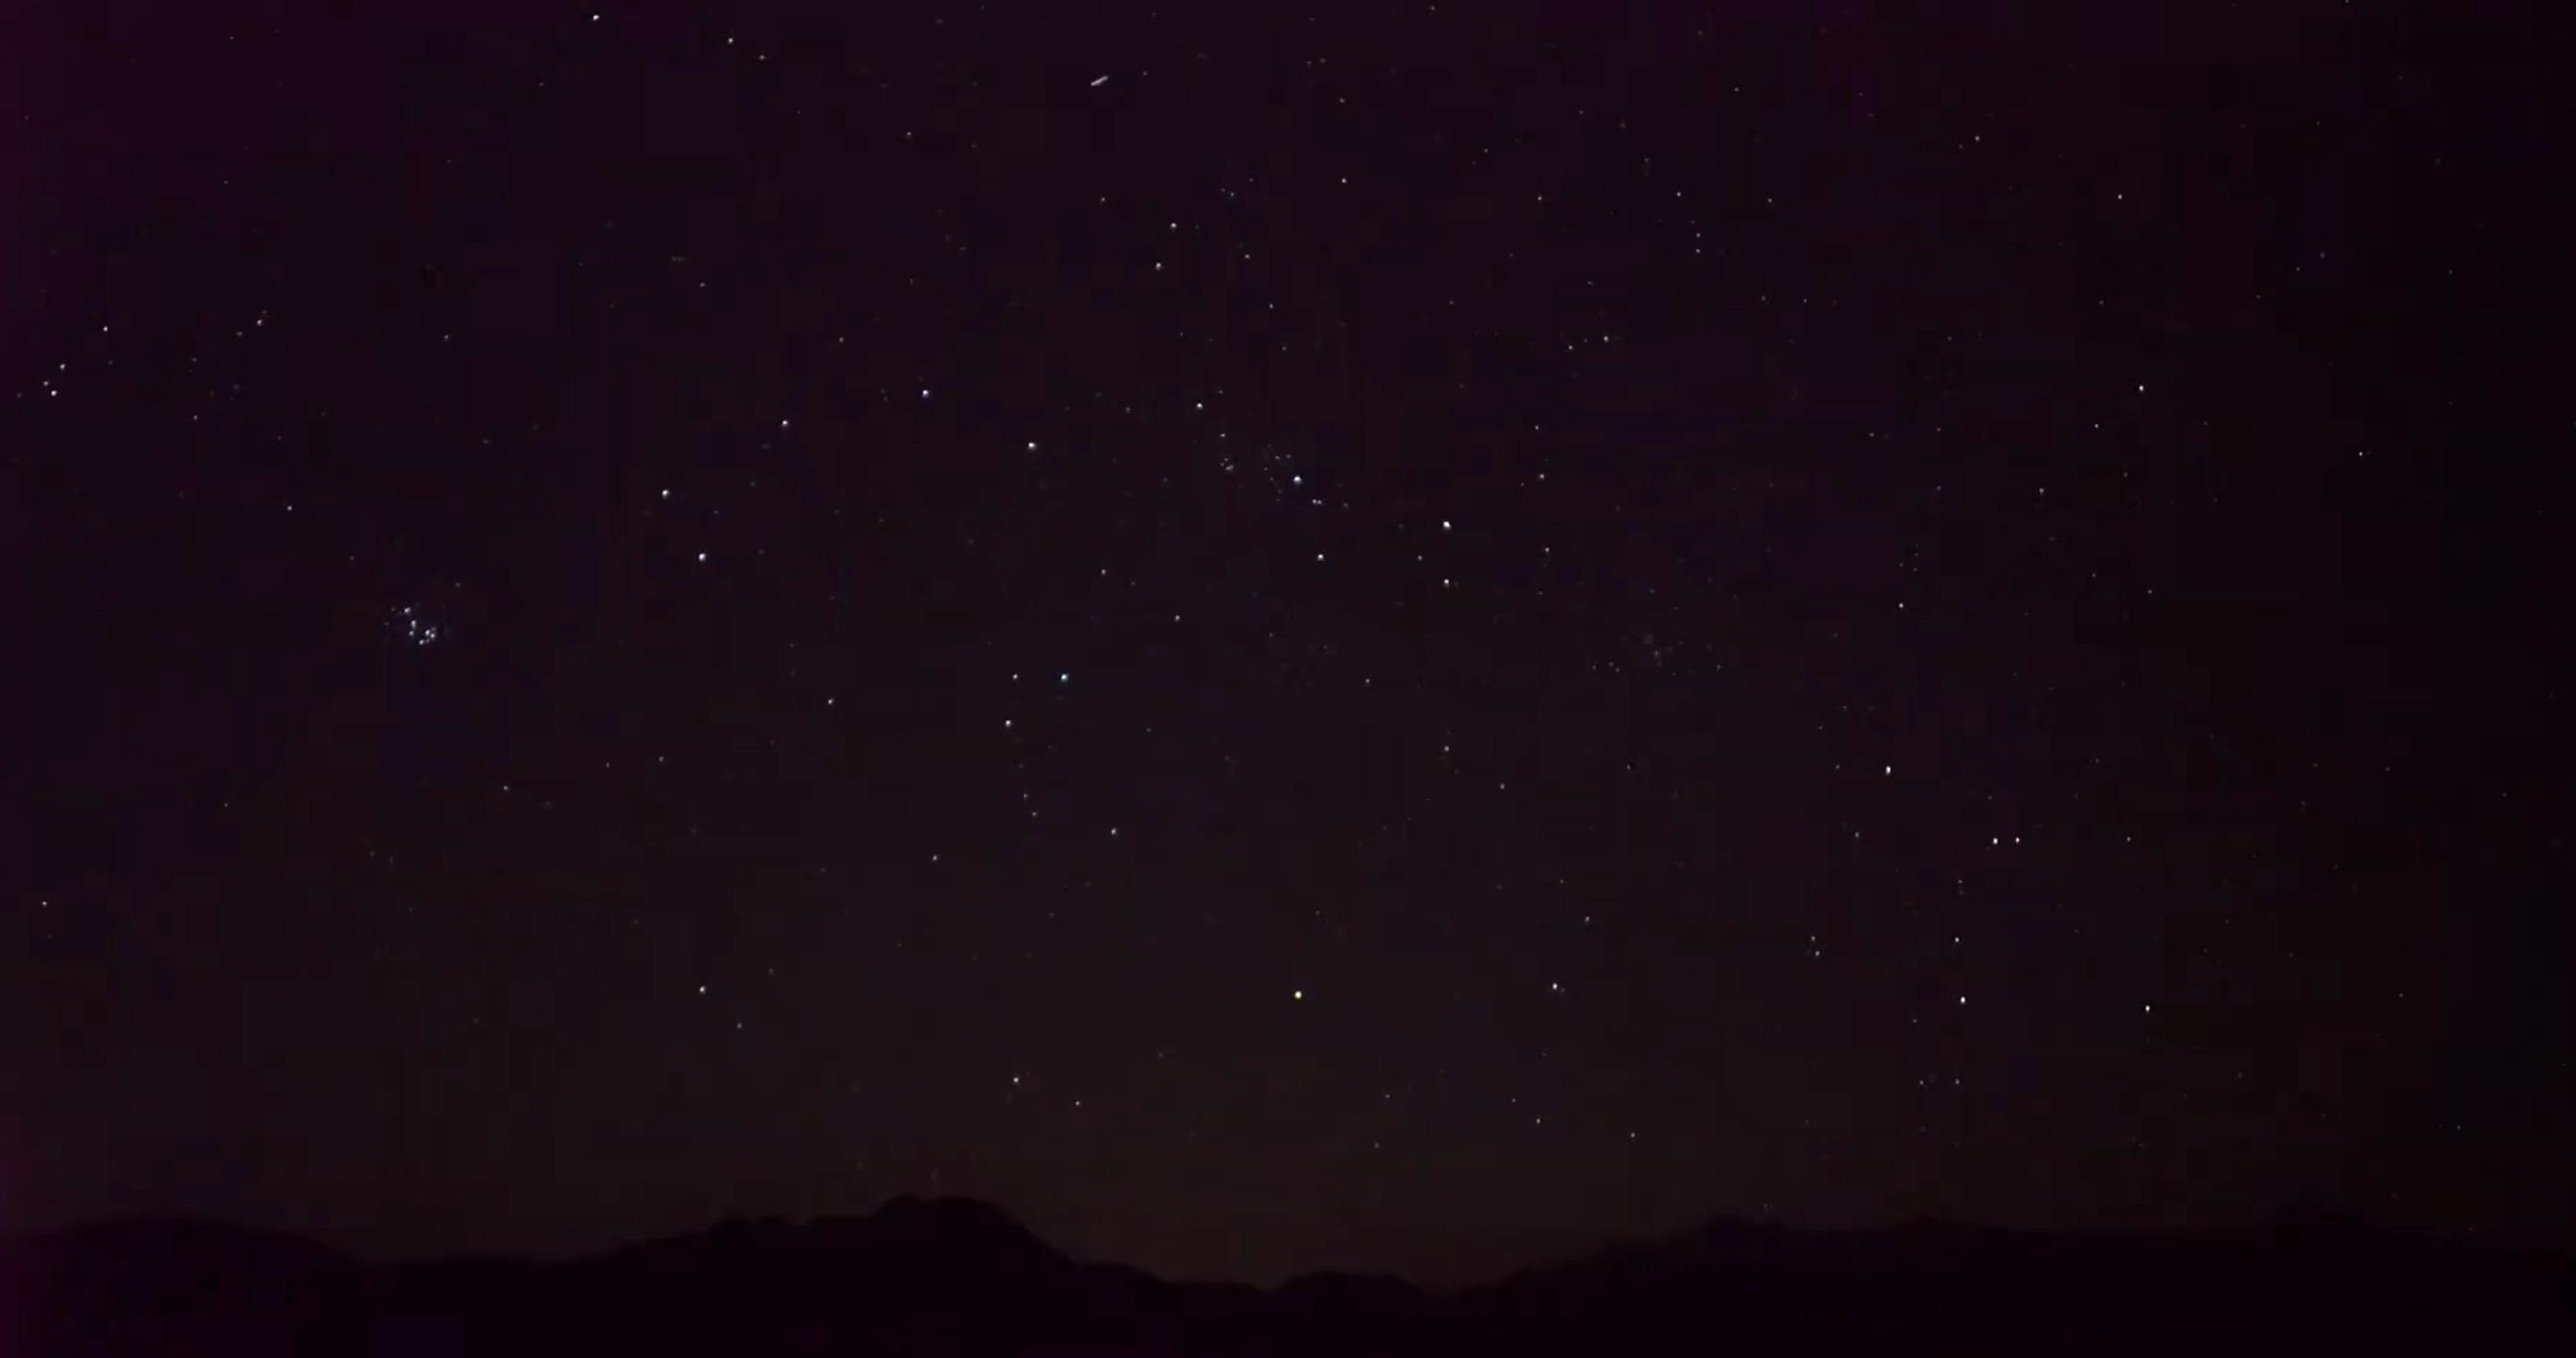meteorite: (1077, 56, 1126, 114)
